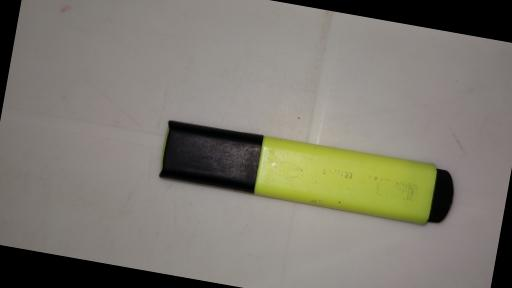Highlighter: (157, 114, 459, 230)
